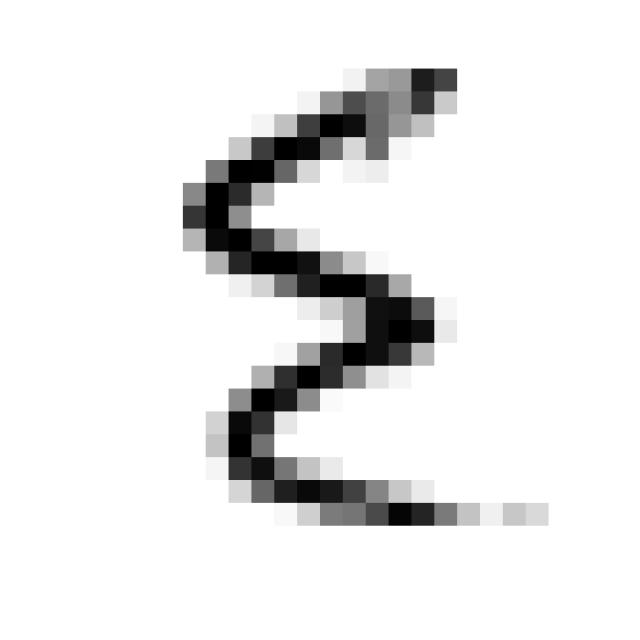4 -four-: (167, 41, 561, 544)
